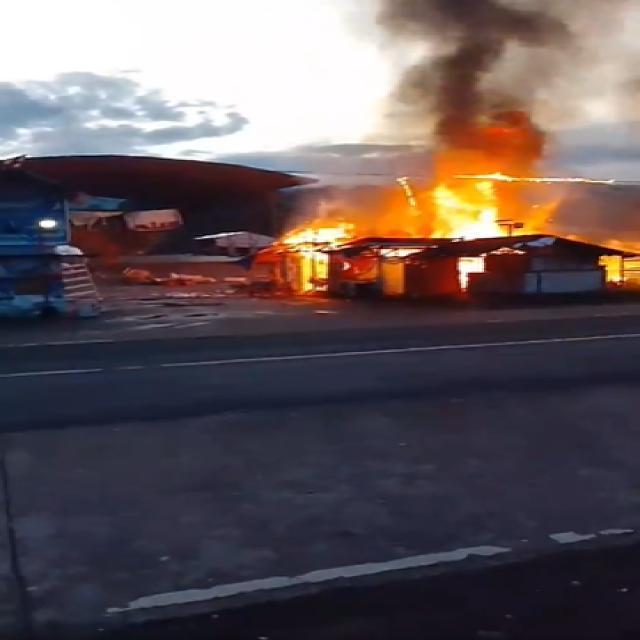Fire: (414, 178, 521, 240), (279, 220, 351, 290)
Smoke: (376, 0, 596, 150)
